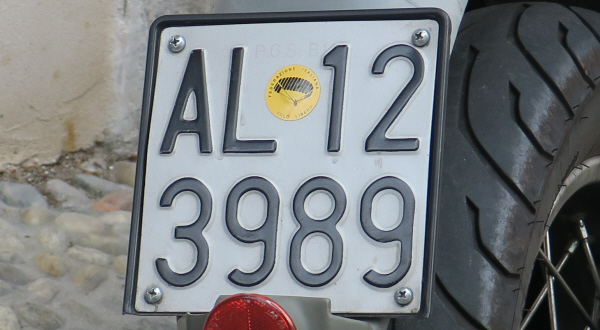license_plate: (132, 19, 437, 315)
